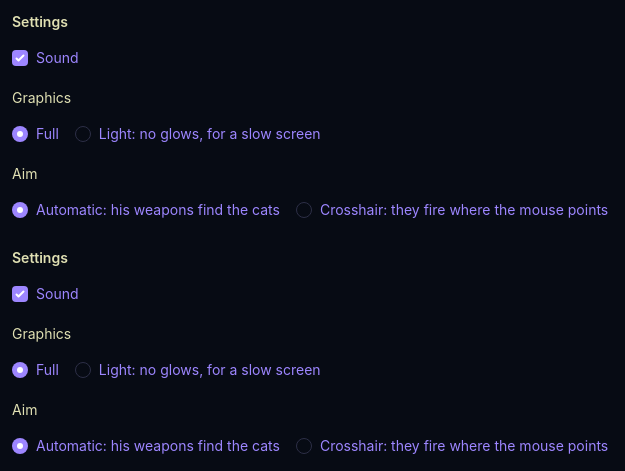
Test: Survival’s settings › the lobby and the pause menu show the same setting
Click the checkbox with test id "survival-pause-sound" at (20, 294), box [12,286,28,302]
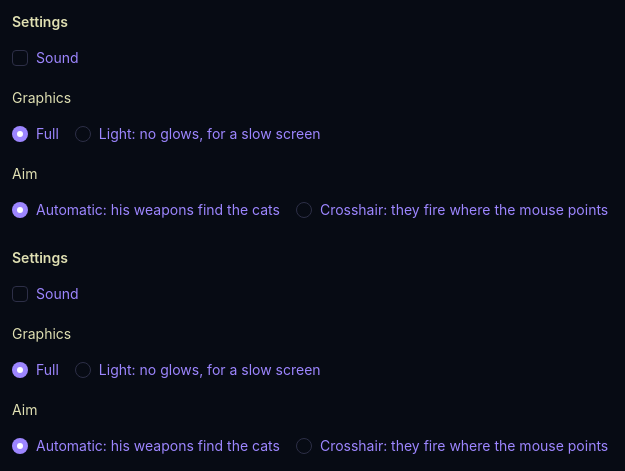
Check: the checkbox with test id "survival-lobby-sound" is not checked, box [12,50,28,66]
Click the radio button with test id "survival-lobby-aim-crosshair" at (304, 210), box [296,202,312,218]
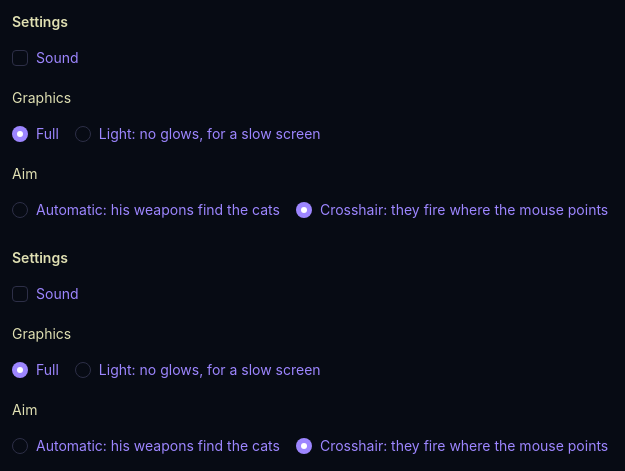
Check: the radio button with test id "survival-pause-aim-crosshair" is checked, box [296,438,312,454]
